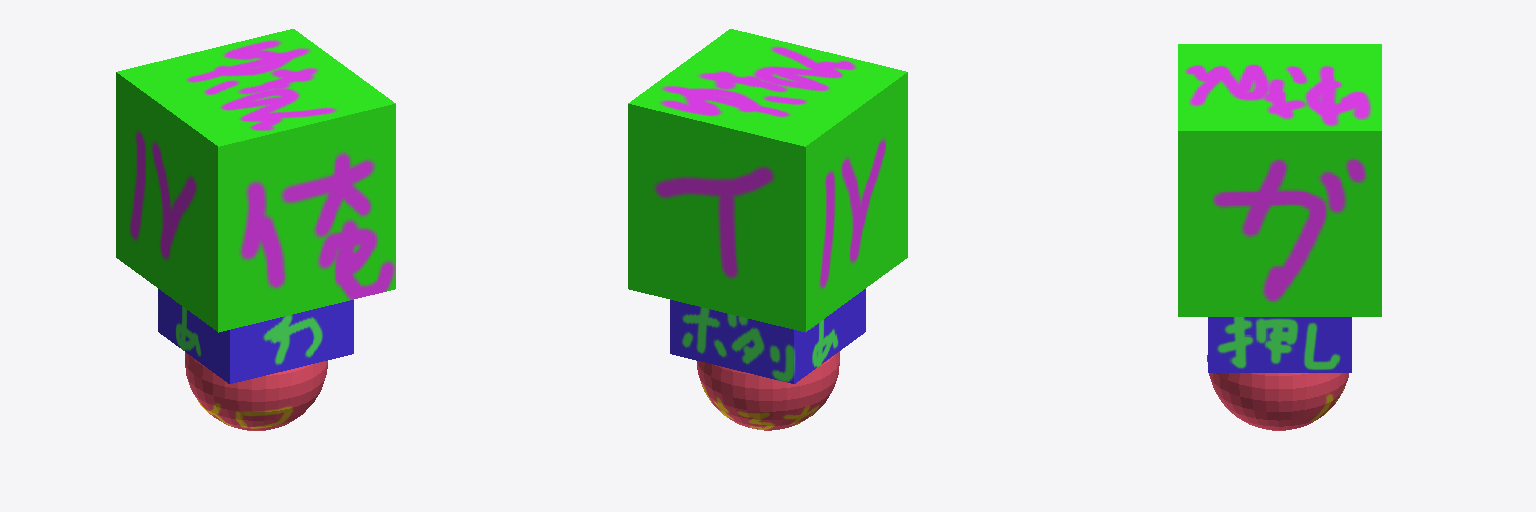
3 views of the same model, side by side, from view 1: azimuth 30°, elevation 25°; view 2: azimuth 150°, elevation 25°; view 3: azimuth 270°, elevation 25° (orthographic).
Parts seen in each view (by area): view 1: WanderBigCube, WanderSmallCube, WanderSphare; view 2: WanderBigCube, WanderSmallCube, WanderSphare; view 3: WanderBigCube, WanderSmallCube, WanderSphare.
Boxes of the visible parts, <box> form: WanderBigCube: <box>116,29,395,332</box>; WanderSmallCube: <box>158,289,353,383</box>; WanderSphare: <box>185,352,327,430</box>; WanderBigCube: <box>628,29,907,332</box>; WanderSmallCube: <box>670,289,865,383</box>; WanderSphare: <box>697,351,839,430</box>; WanderBigCube: <box>1178,44,1381,316</box>; WanderSmallCube: <box>1208,317,1351,372</box>; WanderSphare: <box>1207,355,1348,430</box>.
Size of the model in its own units: 2.84 by 5.15 by 2.84.
3 materials, 3 textured.